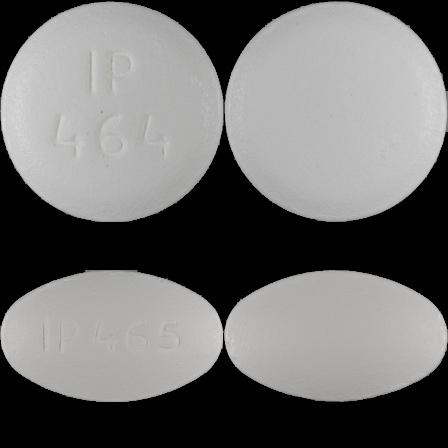66116-366: (0, 0, 224, 224)
